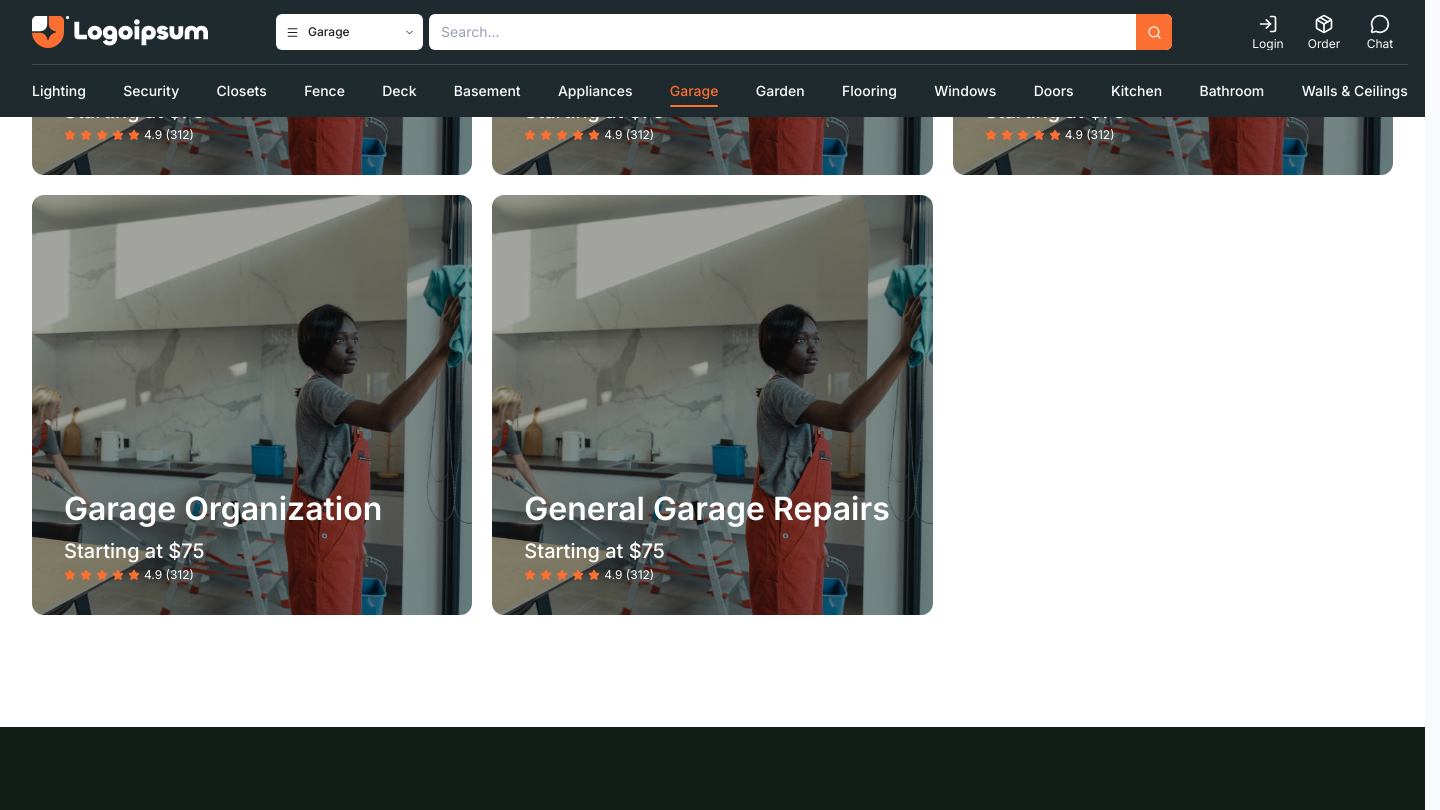
Test case: Garage page › opens child services when a subcategory card is clicked
The image size is (1440, 810).
(page scrolled)
Click the button "Garage Organization": (252, 405) 32,195 -> 472,615
(page scrolled)
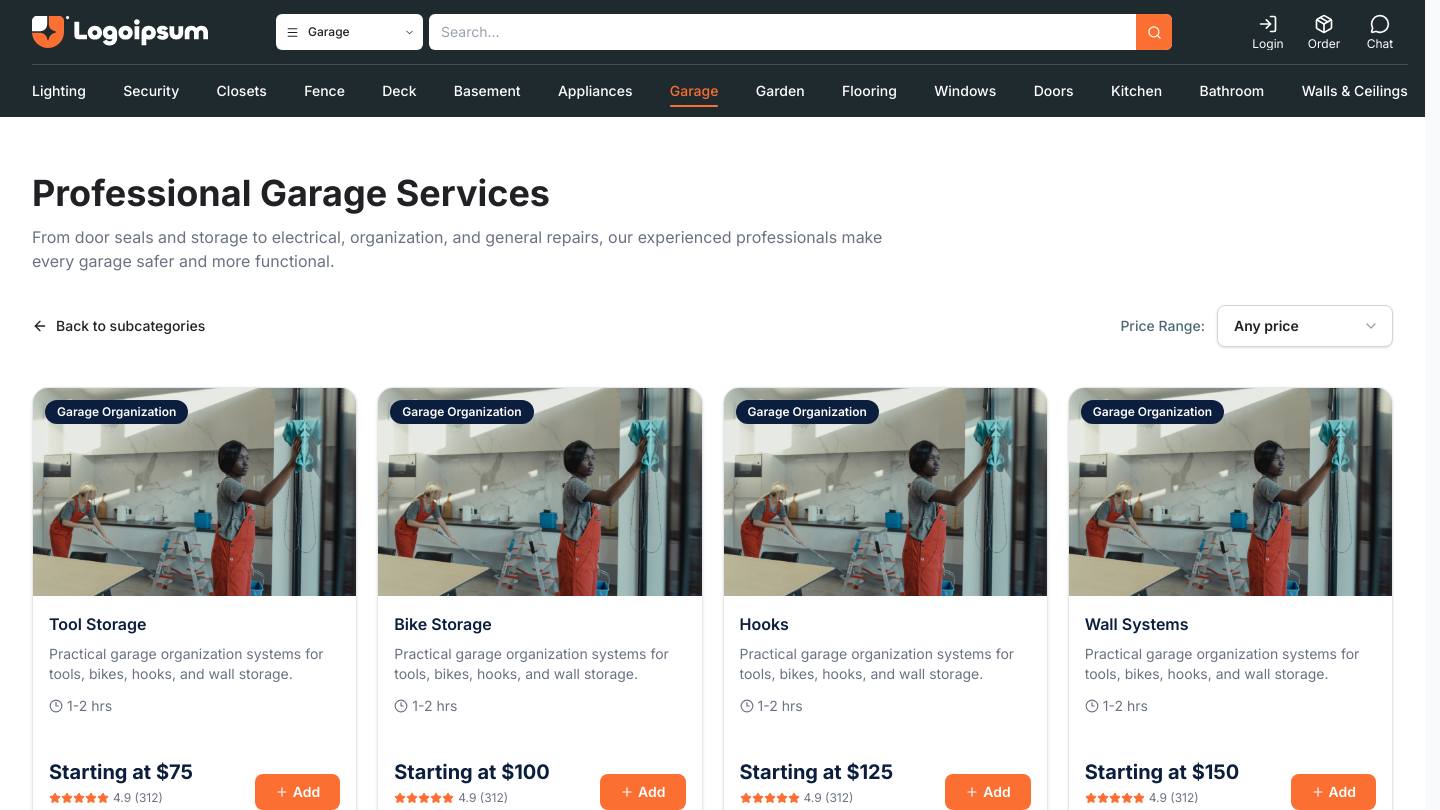
Now the heading "Bike Storage" is shown, box 394,614 -> 492,634
Now the button "Back to subcategories" is shown, box 32,316 -> 205,336
